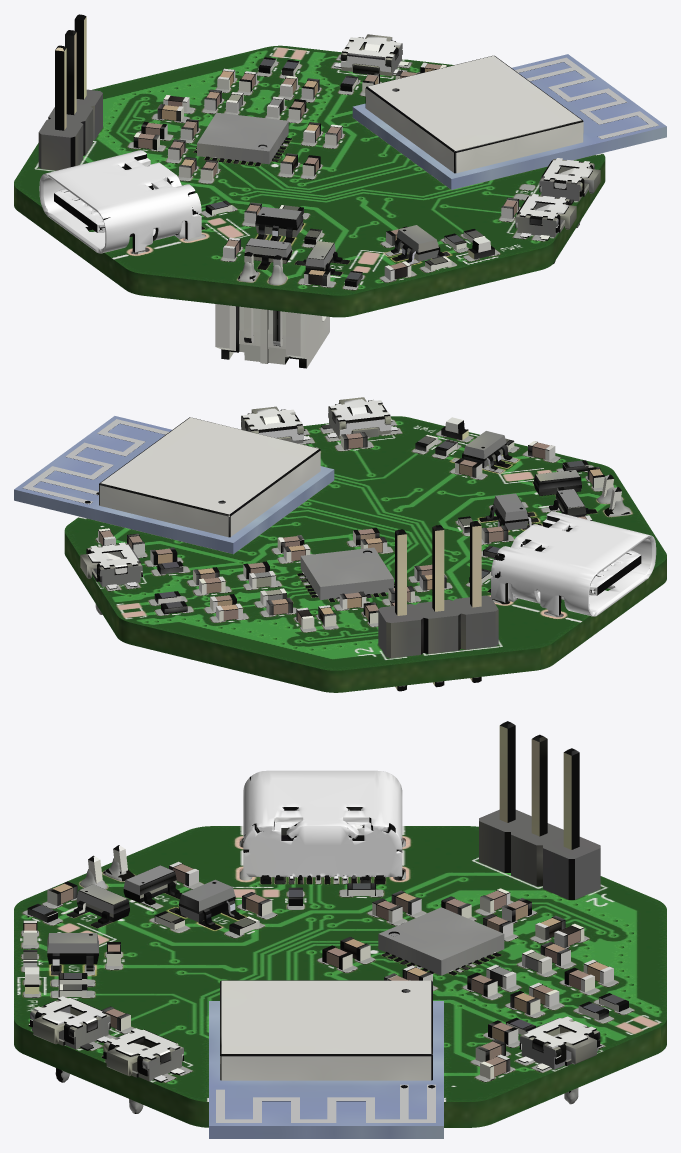
The model's file is Smartlock_web_draco.glb.
The picture shows the model from 3 angles, top to bottom: view 1: azimuth 30°, elevation 25°; view 2: azimuth 150°, elevation 25°; view 3: azimuth 270°, elevation 25°; orthographic projection. The views are drawn at different scales.
Visible parts, largest first — view 1: Smartlock_PCB; view 2: Smartlock_PCB; view 3: Smartlock_PCB.
Part boxes in pixels (x1,y1,x2,y2): Smartlock_PCB: [14, 14, 666, 368]; Smartlock_PCB: [14, 397, 666, 692]; Smartlock_PCB: [14, 721, 666, 1138].
Bounding box in the file's own units: 0.0421 × 0.015 × 0.0367.
Materials: 1 (1 with a texture image).
